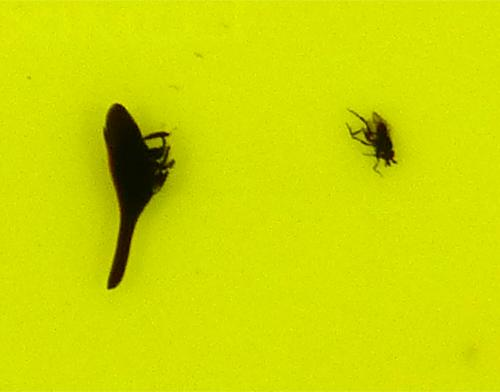Brachycera: (344, 108, 400, 175)
Hemiptera: (100, 100, 177, 292)
